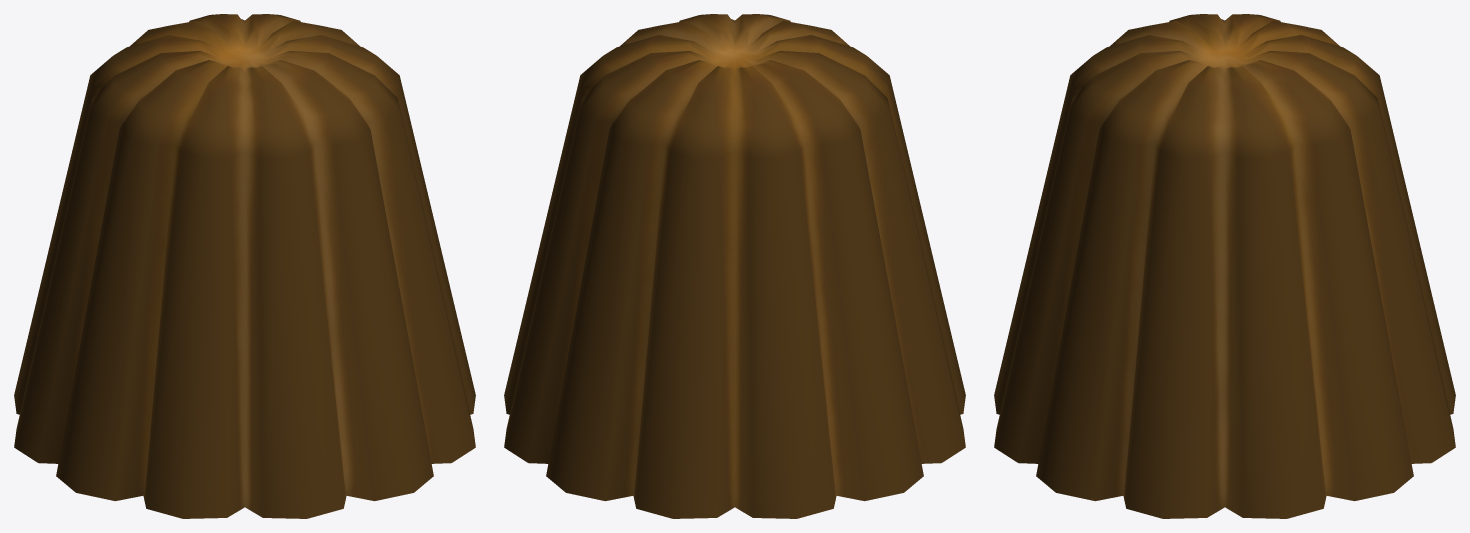
File: Canele.fbx
The picture shows the model from 3 angles, left to right: view 1: azimuth 30°, elevation 25°; view 2: azimuth 150°, elevation 25°; view 3: azimuth 270°, elevation 25°; orthographic projection.
Parts seen in each view (by area): view 1: Canele; view 2: Canele; view 3: Canele.
Boxes of the visible parts, bbox=[...] form: Canele: bbox=[14, 14, 475, 518]; Canele: bbox=[504, 14, 965, 518]; Canele: bbox=[994, 14, 1455, 518].
Size of the model in its own units: 1.43 by 1.28 by 1.43.
